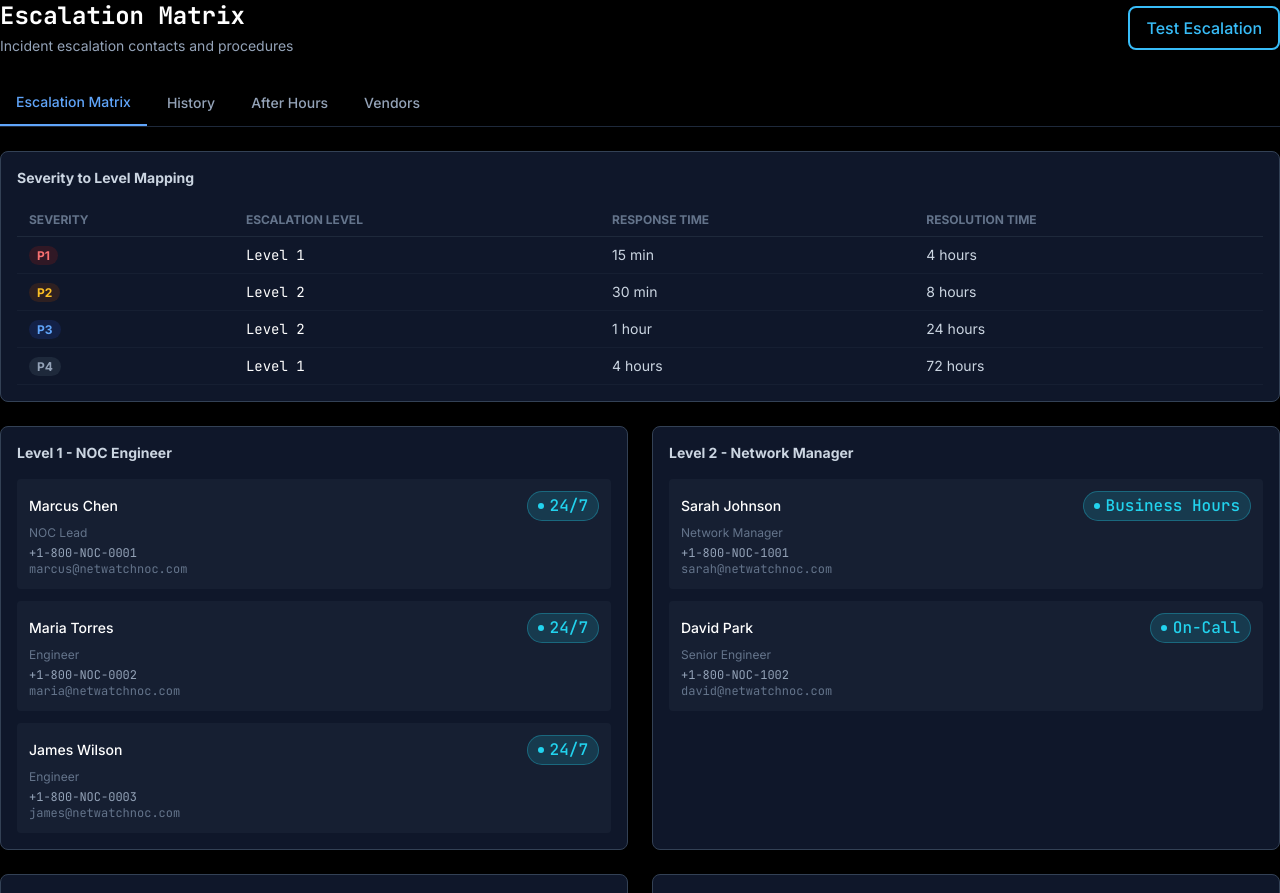
EscalationPage › switches to After Hours tab
The width and height of the screenshot is (1280, 893).
Step 1. Click the button "After Hours" → click(290, 103), box [235,80,344,126]
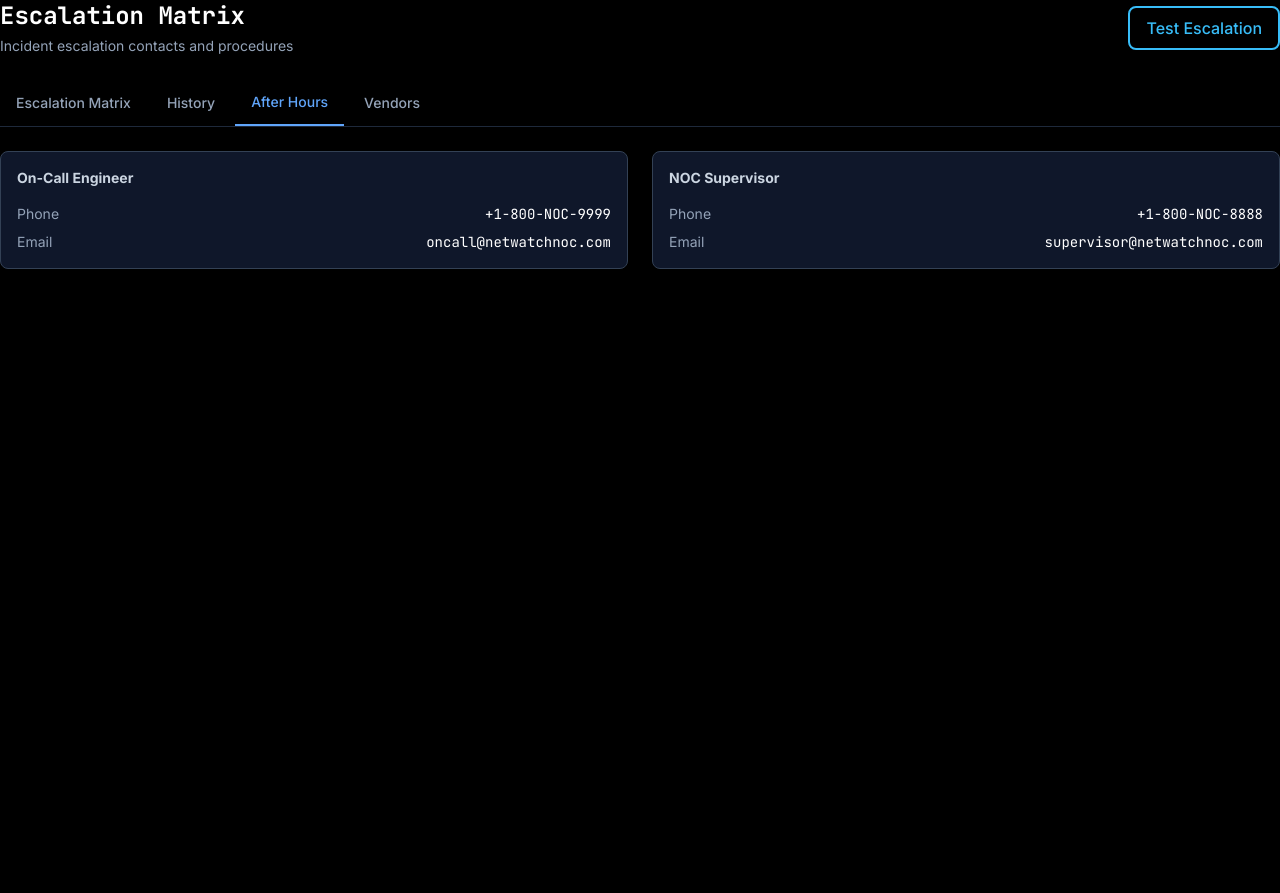
Now the heading "On-Call Engineer" is shown, box [17,169,133,186]
Now the heading "NOC Supervisor" is shown, box [669,169,779,186]
